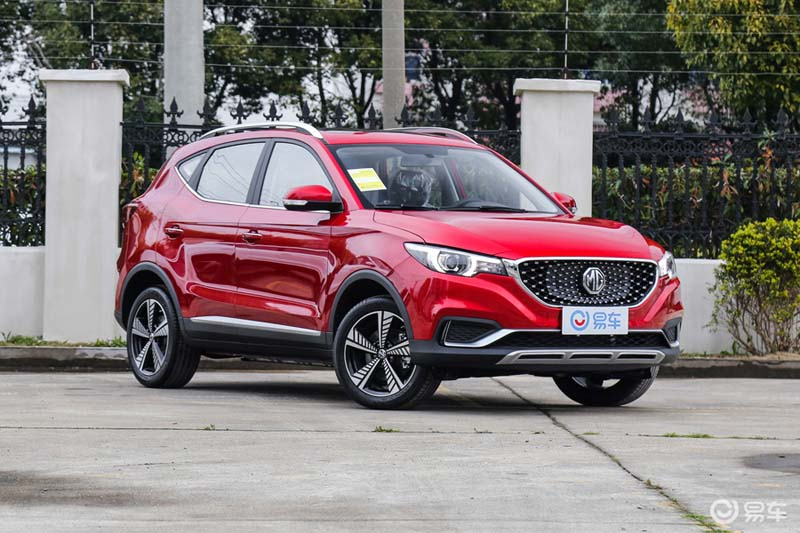pickup: (116, 119, 684, 409)
